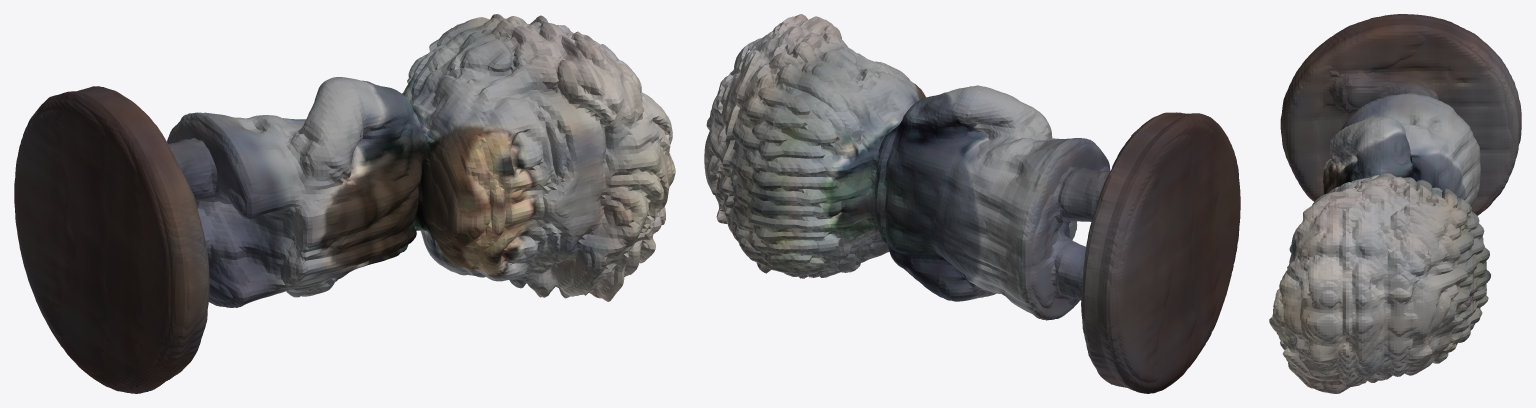
Rendered from jeremy.glb.
3 renders of one model, left to right at view 1: azimuth 30°, elevation 25°; view 2: azimuth 150°, elevation 25°; view 3: azimuth 270°, elevation 25°, orthographic. The views are drawn at different scales.
Visible parts, largest first — view 1: geometry_0; view 2: geometry_0; view 3: geometry_0.
Boxes of the visible parts, box(x1,y1,x2,y2) form: geometry_0: box(14, 14, 675, 393); geometry_0: box(704, 14, 1240, 393); geometry_0: box(1269, 14, 1521, 393).
Size of the model in its own units: 1.02 by 0.5081 by 0.5375.
